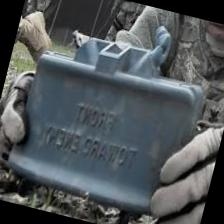MOH-50: (0, 9, 215, 224)
